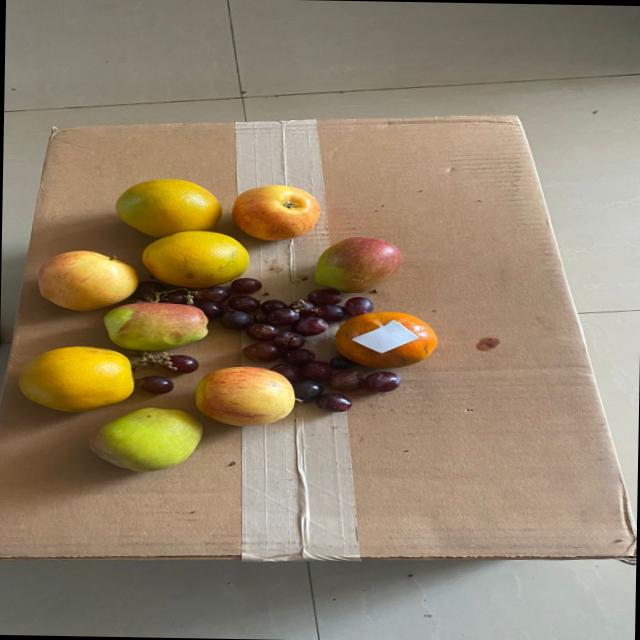hoja: (352, 318, 418, 352)
